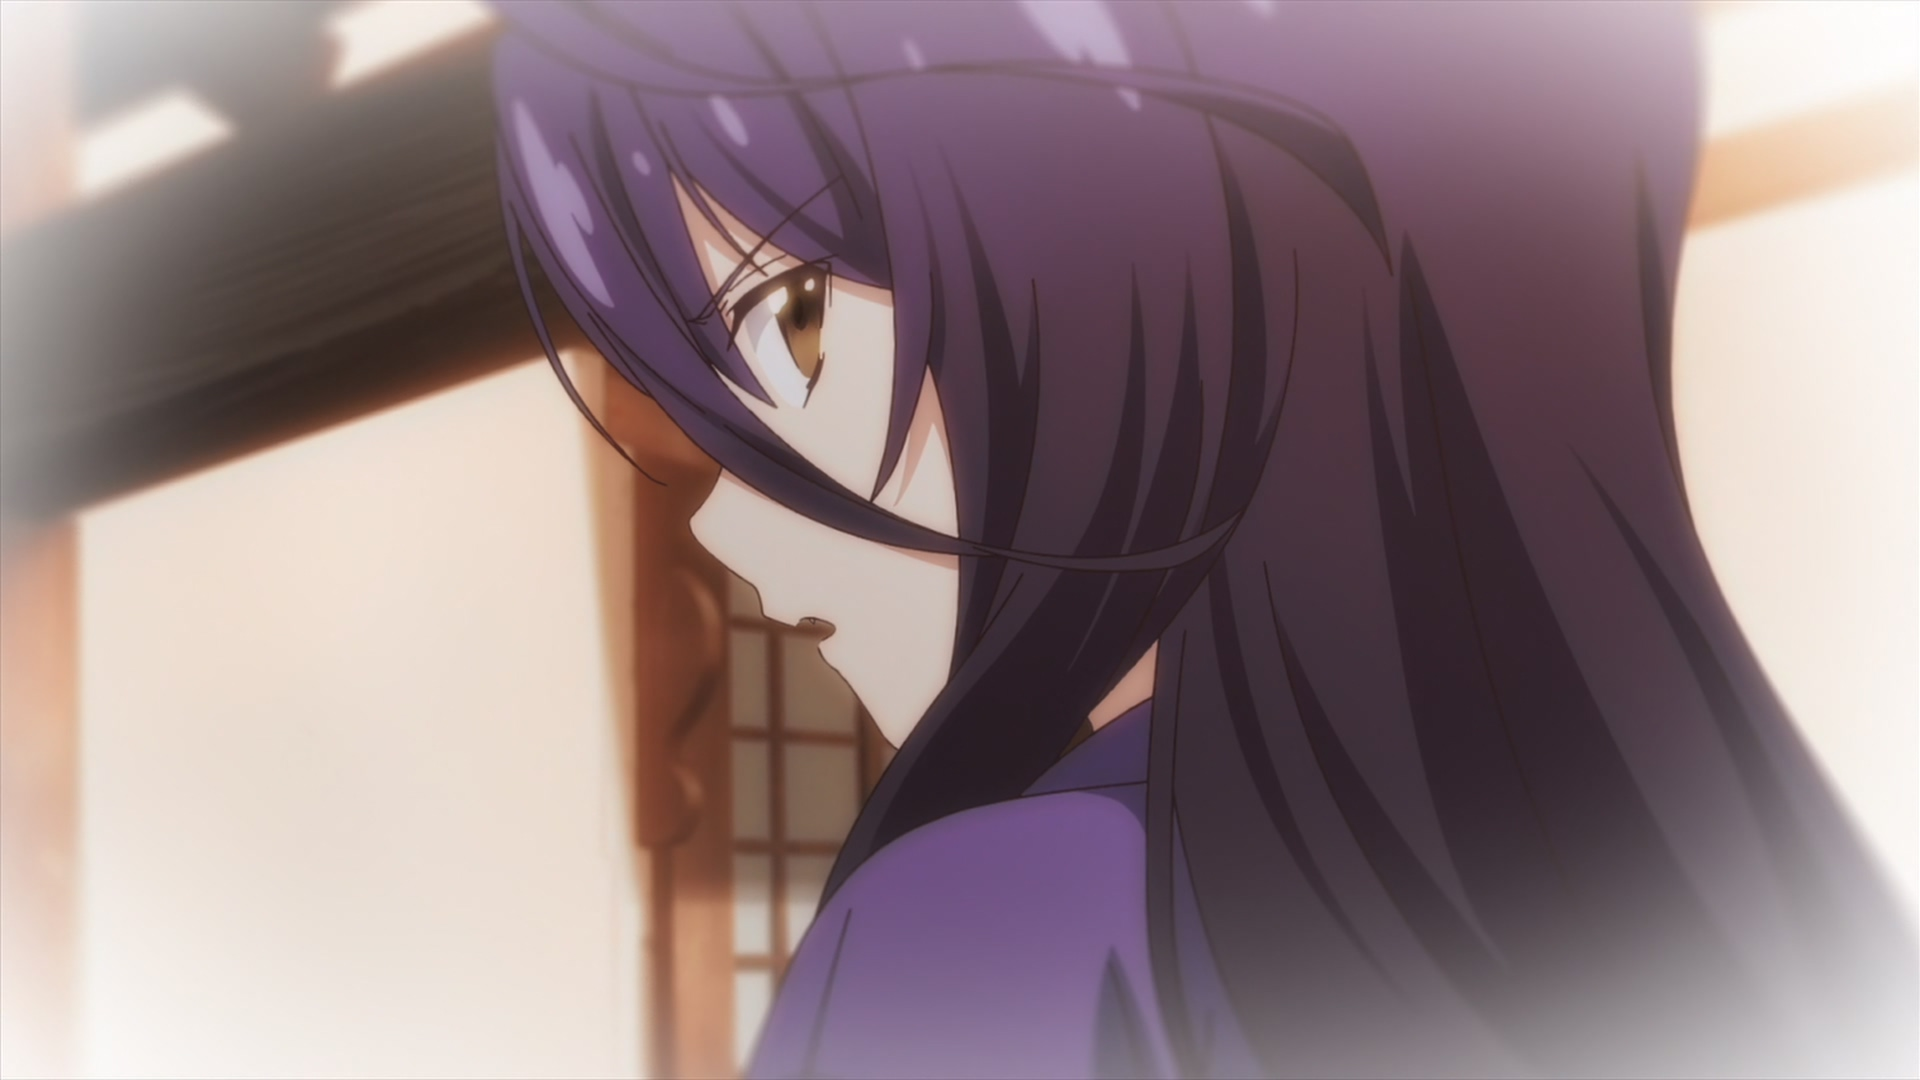皋: (480, 1, 1920, 1080)
